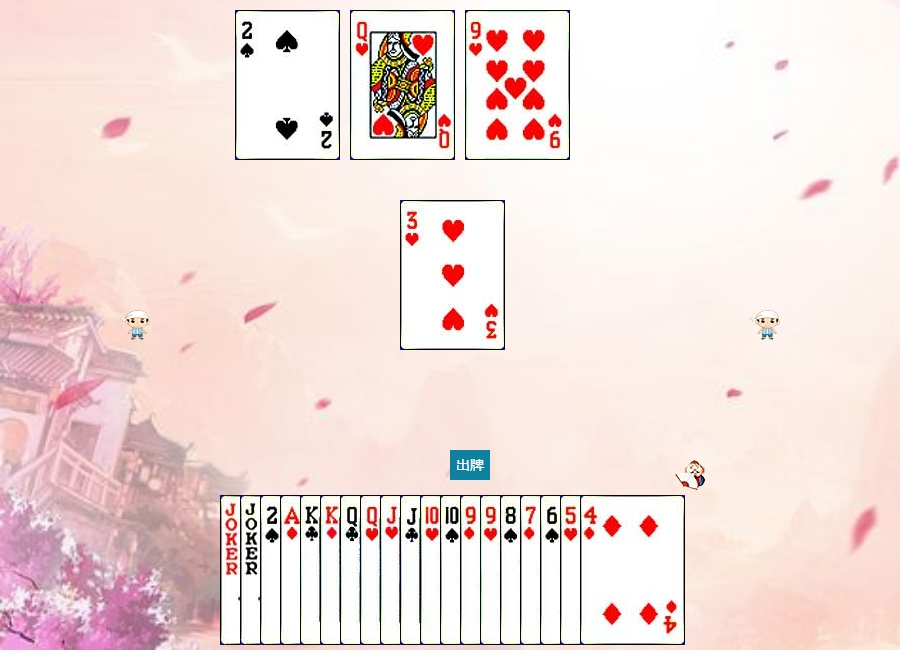10~3: (420, 495, 525, 645)
10~4: (440, 495, 545, 645)
11~2: (400, 495, 505, 645)
11~3: (380, 495, 485, 645)
12~2: (340, 495, 445, 645)
12~3: (350, 10, 455, 160), (360, 495, 465, 645)
13~1: (320, 495, 425, 645)
13~2: (300, 495, 405, 645)
14~1: (280, 495, 385, 645)
15~4: (235, 10, 340, 160), (260, 495, 365, 645)
17~3: (240, 495, 345, 645)
18~4: (220, 495, 325, 645)
3~3: (400, 200, 505, 350)
4~1: (580, 495, 685, 645)
5~3: (560, 495, 665, 645)
6~4: (540, 495, 645, 645)
7~1: (520, 495, 625, 645)
8~4: (500, 495, 605, 645)
9~1: (460, 495, 565, 645)
9~3: (465, 10, 570, 160), (480, 495, 585, 645)
